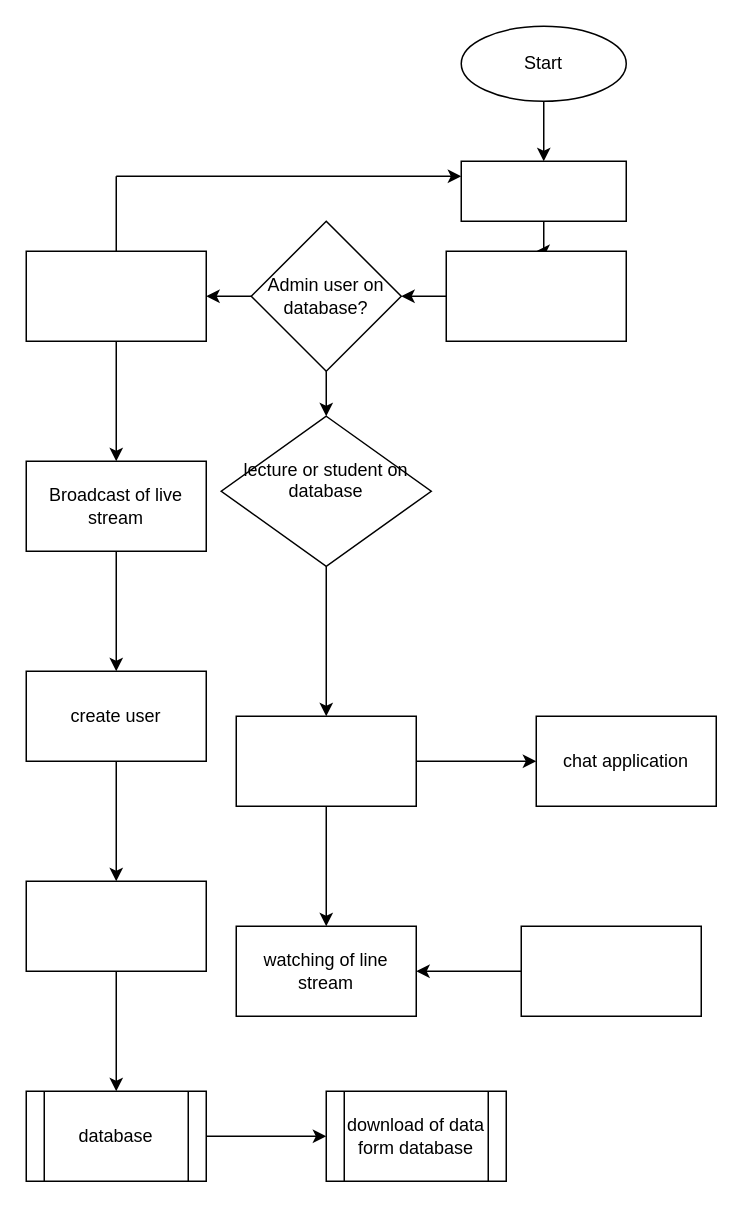
Some shapes in this 743 by 1208 pixel diagram are drawn without their labels. The shapes that lost their labels are listed below. From the top down, each one's centre as x and y in pixels, then its label:
the point at 543,190: Home page
the point at 115,295: Administration
the point at 535,295: Admin,lecture and student login
the point at 325,760: lecture and student interface
the point at 115,925: upload of data and edit or delete
